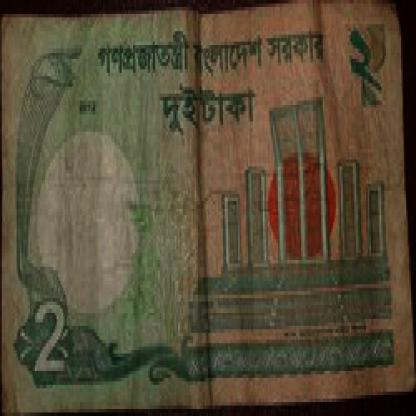two taka: (24, 291, 76, 382), (343, 17, 391, 104)
